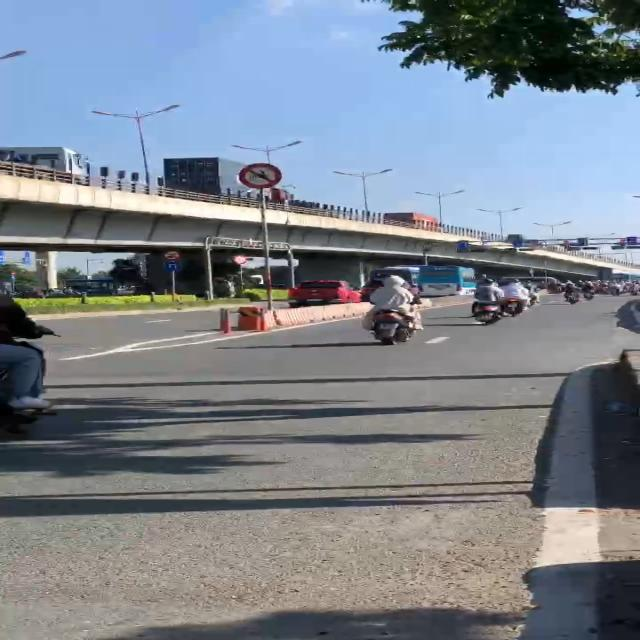Bien bao cam xe may: (236, 162, 286, 191)
